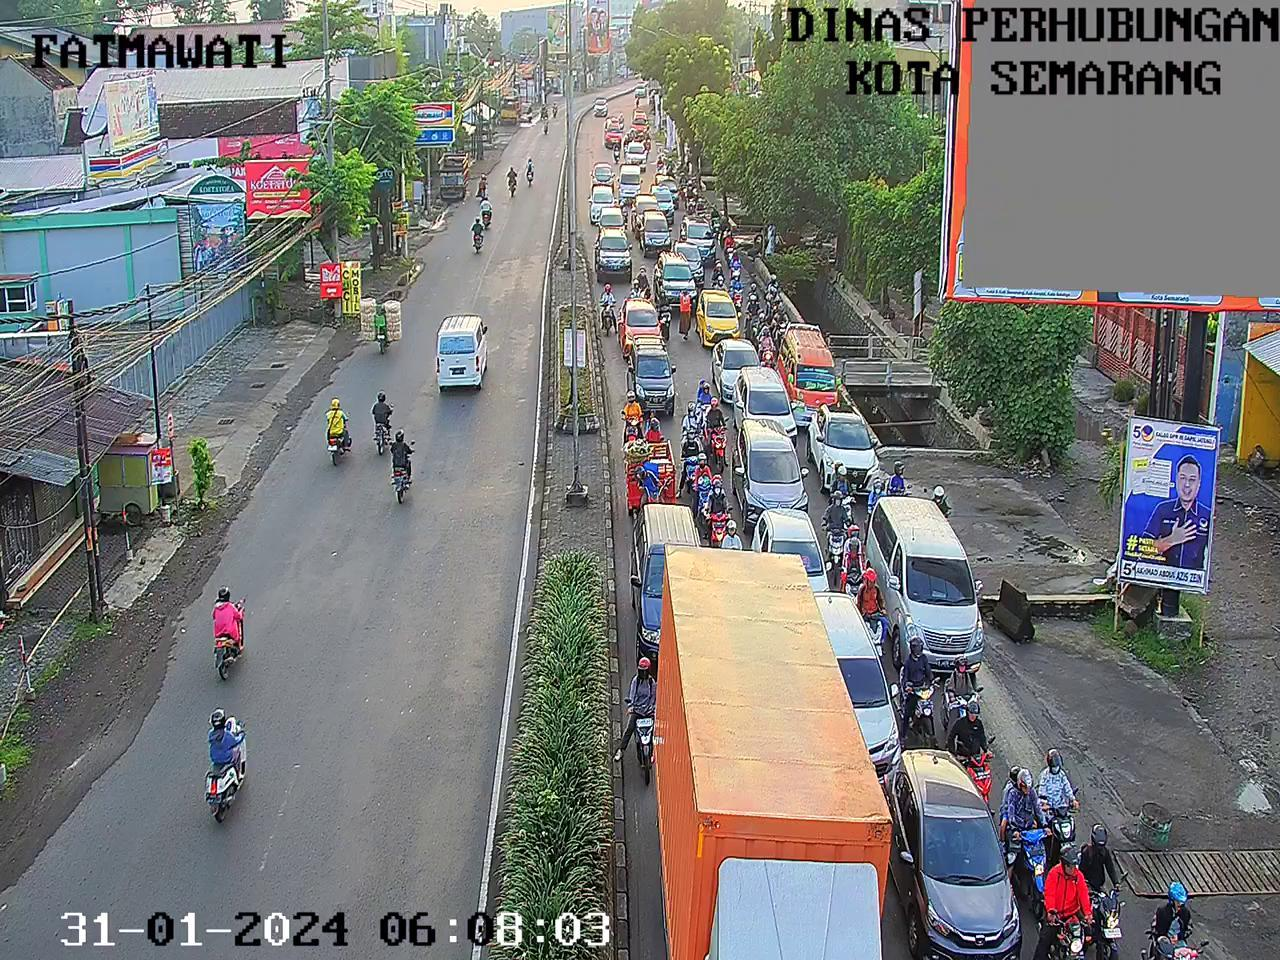bus: (604, 110, 625, 155)
car: (854, 479, 994, 680), (893, 741, 1019, 959), (804, 588, 905, 783), (733, 423, 815, 520), (759, 513, 838, 592), (779, 320, 837, 426), (814, 403, 875, 490), (736, 362, 798, 443), (707, 333, 761, 403), (628, 337, 679, 409), (656, 250, 698, 308), (682, 210, 720, 266), (702, 287, 742, 341), (596, 227, 633, 281), (620, 298, 659, 347), (640, 210, 672, 254), (618, 157, 646, 206), (676, 239, 707, 281), (649, 179, 678, 222), (633, 191, 660, 234), (656, 168, 683, 199), (629, 138, 653, 171), (590, 187, 615, 217), (601, 206, 628, 233), (595, 162, 616, 191), (634, 104, 649, 132), (595, 95, 608, 117), (634, 86, 649, 101)
motorcycle: (1004, 761, 1052, 912), (895, 634, 958, 741), (1085, 817, 1133, 959), (620, 657, 675, 773), (1036, 847, 1093, 960), (1142, 876, 1201, 958), (955, 697, 1002, 788), (617, 439, 681, 503), (1044, 741, 1081, 846), (853, 566, 891, 650), (948, 643, 978, 727), (819, 499, 853, 572), (706, 471, 736, 544), (688, 452, 715, 516), (841, 525, 865, 594), (707, 399, 730, 467), (683, 424, 707, 489), (829, 461, 856, 517), (861, 471, 890, 520), (618, 384, 643, 439), (597, 283, 620, 335), (653, 288, 676, 336), (772, 301, 793, 343), (892, 451, 911, 496), (682, 401, 700, 449), (758, 325, 776, 372), (716, 519, 742, 547), (926, 490, 950, 518), (732, 267, 744, 316), (630, 270, 648, 303), (746, 292, 760, 330), (727, 249, 742, 282), (697, 379, 710, 421), (685, 179, 698, 216), (709, 202, 723, 235), (725, 230, 738, 263), (650, 408, 663, 440), (764, 283, 779, 307), (678, 168, 689, 199), (756, 310, 768, 335), (611, 137, 622, 164), (769, 270, 782, 290), (624, 126, 636, 147), (714, 273, 725, 294), (666, 156, 677, 175), (657, 149, 665, 175), (645, 130, 654, 153), (615, 112, 625, 130)
truck: (648, 534, 890, 958)
